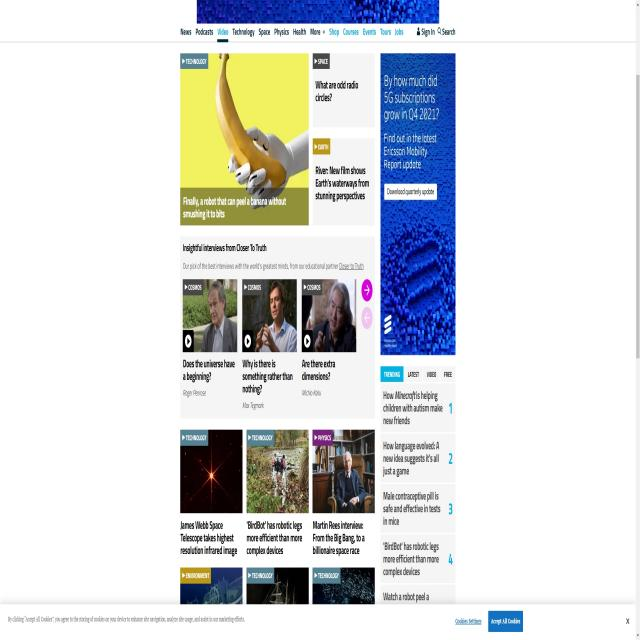menu-bar: (413, 22, 459, 42)
tab-bar: (177, 19, 407, 42), (382, 364, 456, 384)
